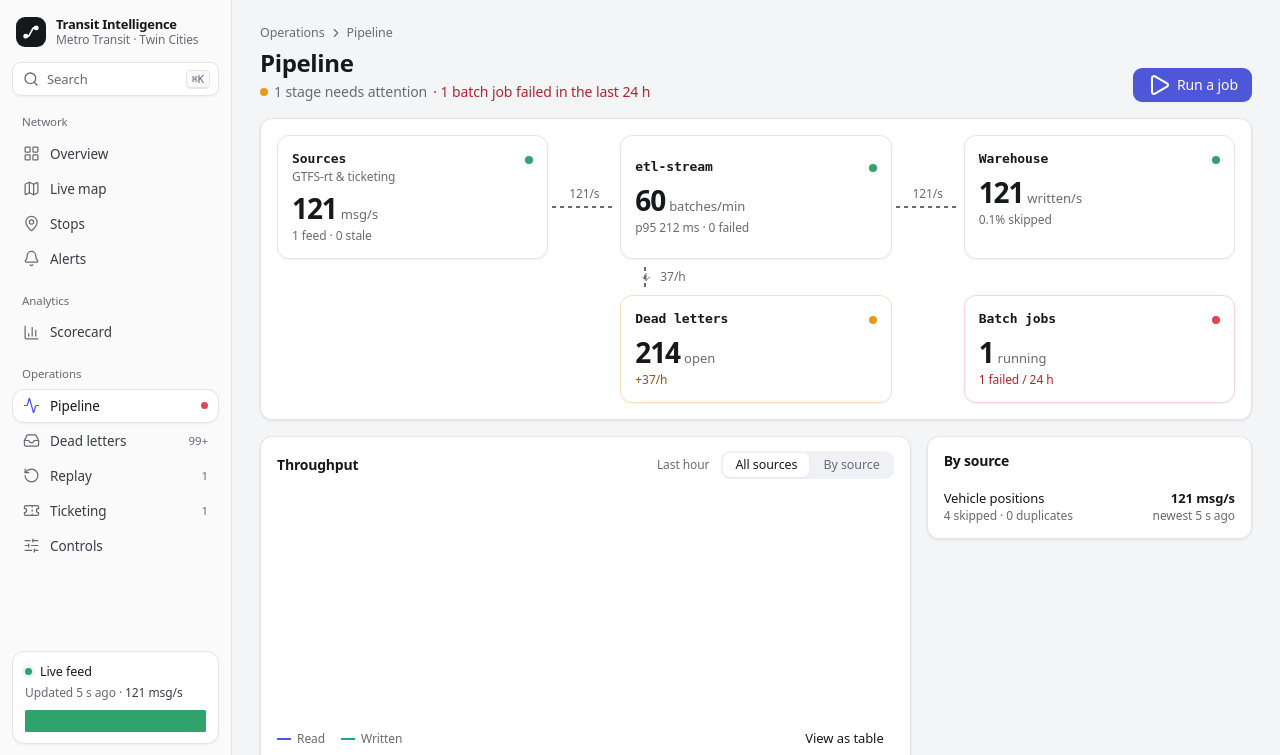
Controls: anchors › lands on Run a job from the Pipeline button
Click the link "Run a job" at (1192,85), box [1133,68,1252,102]
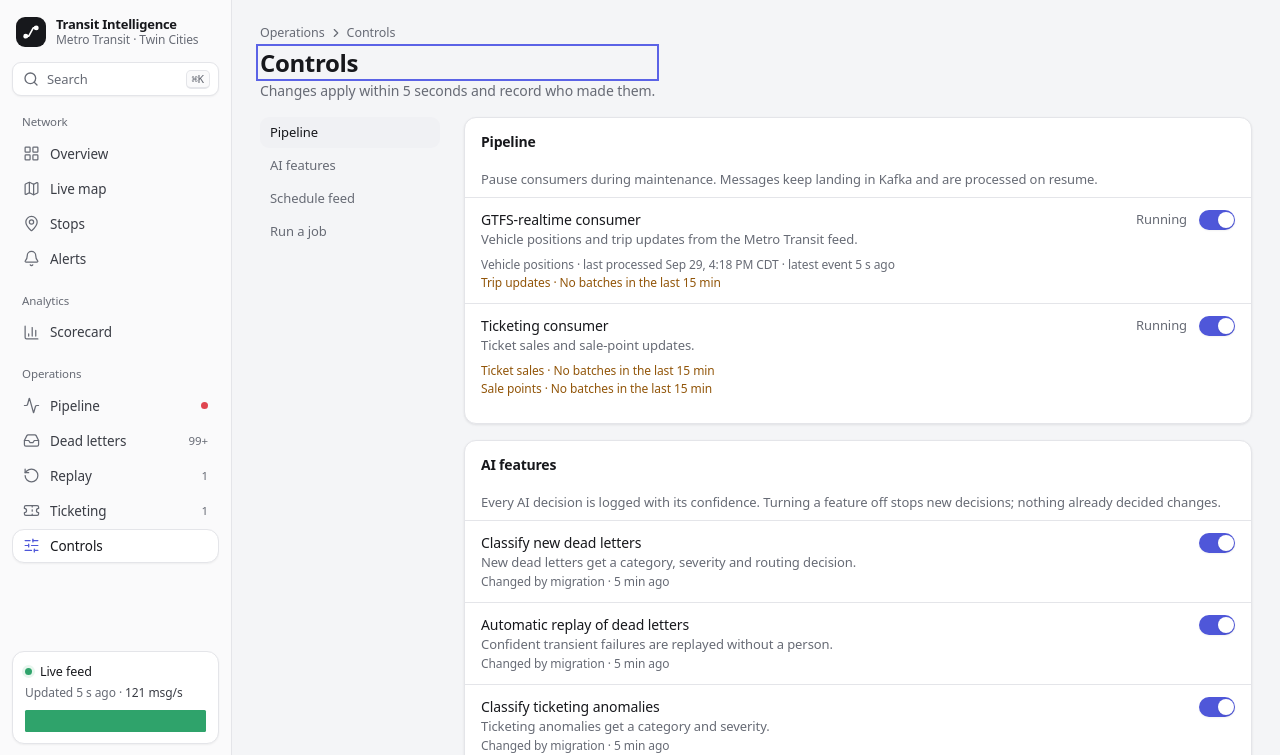
Check: the heading "Controls" is shown, box [260,46,358,79]
